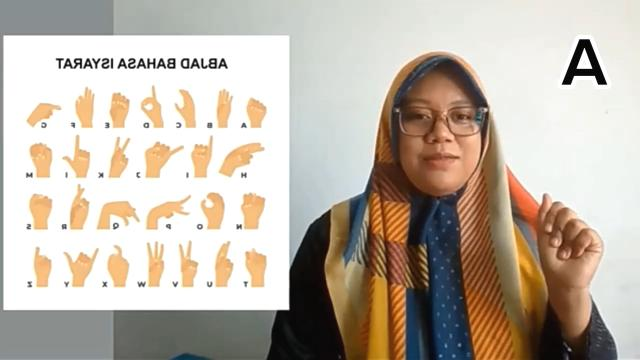A: (530, 187, 610, 292)
